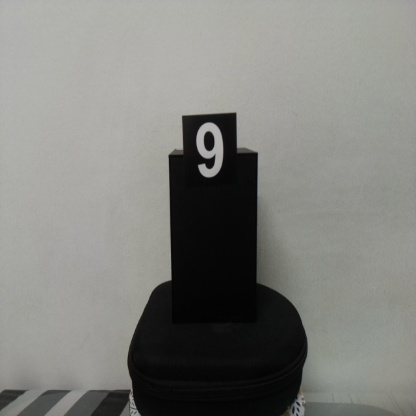id_9: (182, 115, 238, 202)
